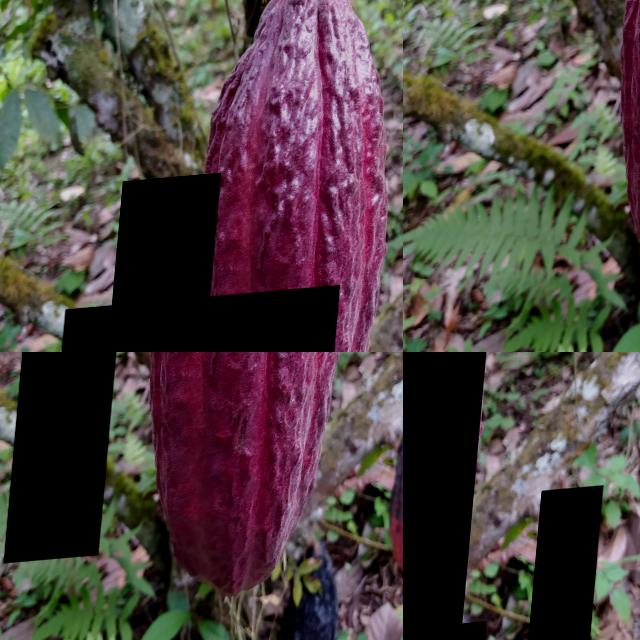Fitoftora: (12, 352, 123, 565), (537, 496, 610, 640)
Sana: (403, 352, 504, 640), (116, 178, 225, 339)
